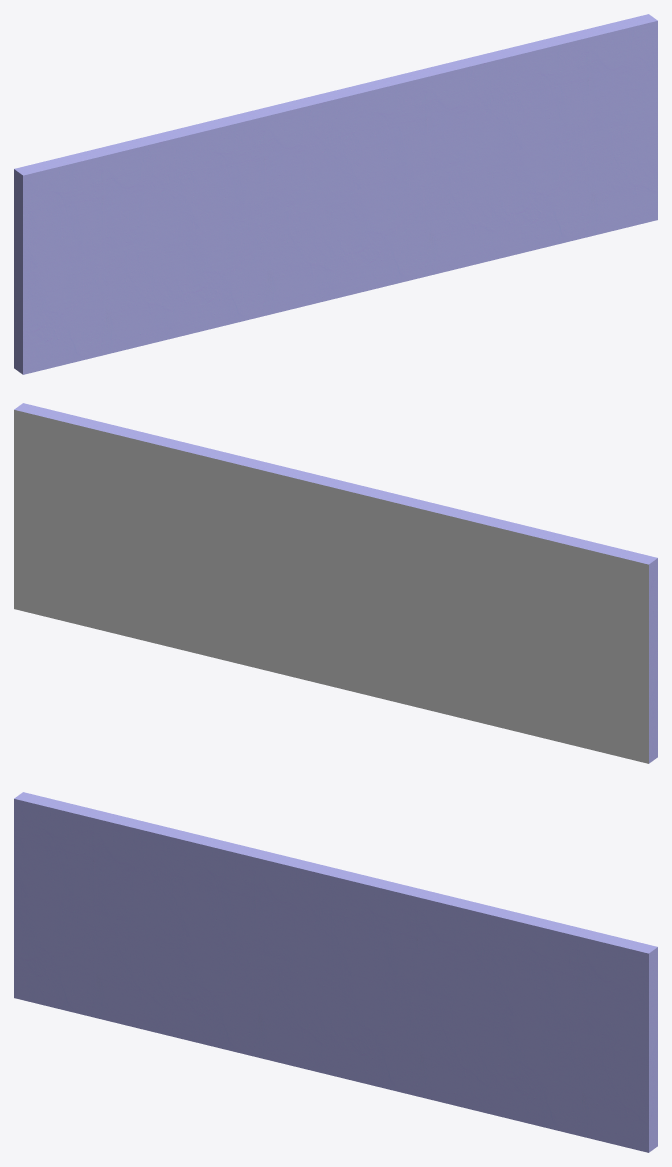
Rendered from Wall_2_4x8.fbx.
3 renders of one model, top to bottom at view 1: azimuth 30°, elevation 25°; view 2: azimuth 150°, elevation 25°; view 3: azimuth 330°, elevation 25°, orthographic.
Parts seen in each view (by area): view 1: Wall_2_4x8; view 2: Wall_2_4x8; view 3: Wall_2_4x8.
Part boxes in pixels (x1,y1,x2,y2): Wall_2_4x8: (14,14,657,374); Wall_2_4x8: (14,403,657,763); Wall_2_4x8: (14,792,657,1152).
Size of the model in its own units: 800 by 240 by 20.
